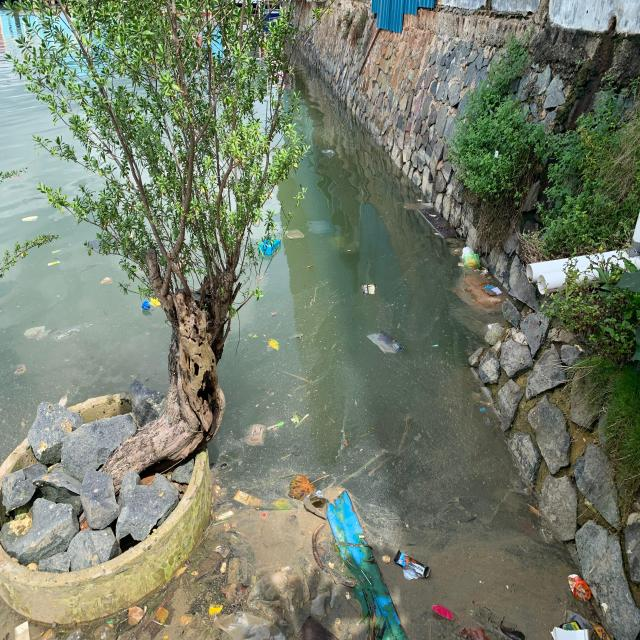Bungkus Makanan: (394, 549, 434, 583), (303, 491, 331, 522), (234, 490, 263, 511), (245, 423, 269, 448), (550, 626, 592, 640), (362, 281, 379, 298), (462, 246, 476, 260)
Bungkus Minuman: (567, 574, 593, 603)
Kantong Plastik: (247, 566, 313, 637), (213, 611, 290, 640), (24, 326, 54, 342), (308, 220, 335, 237), (464, 254, 482, 270), (284, 229, 307, 241), (100, 276, 115, 286), (141, 301, 153, 313), (322, 148, 337, 157)
